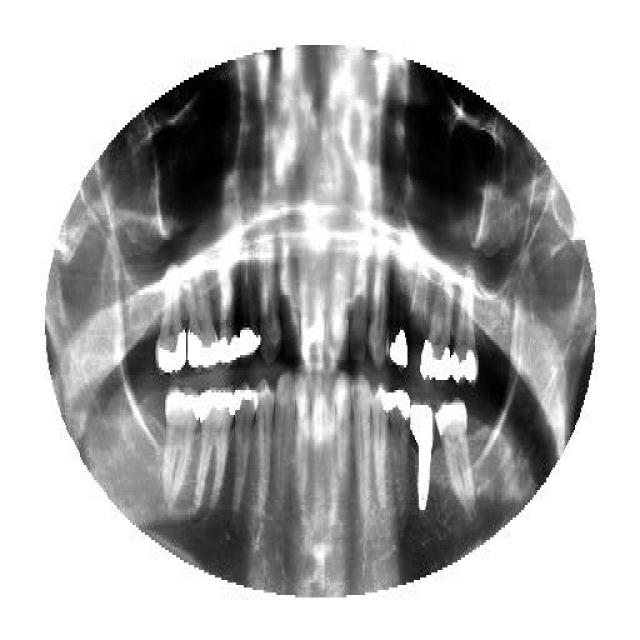Cavity: (280, 240, 301, 360)
Fillings: (195, 390, 233, 502), (185, 260, 220, 370), (232, 380, 258, 518), (386, 385, 414, 513), (421, 272, 454, 380), (155, 265, 187, 375), (235, 238, 260, 362), (454, 270, 480, 382), (219, 245, 240, 367), (389, 278, 410, 370)
Implant: (410, 400, 435, 515)
